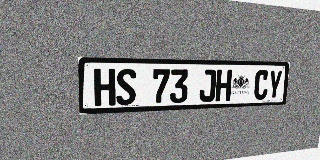3: (170, 69, 188, 103)
7: (151, 69, 170, 104)
C: (253, 70, 269, 100)
H: (94, 68, 115, 106), (215, 70, 232, 101)
J: (199, 69, 216, 102)
S: (116, 69, 136, 105)
Y: (267, 70, 283, 99)
